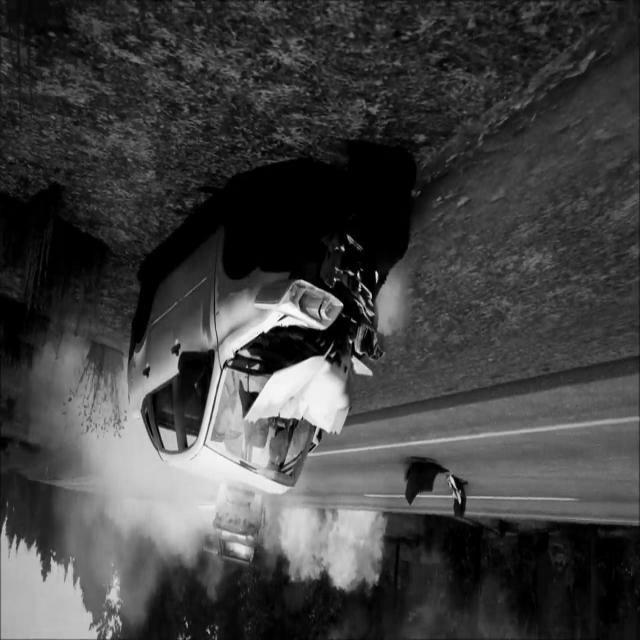severe: (120, 190, 388, 505)
